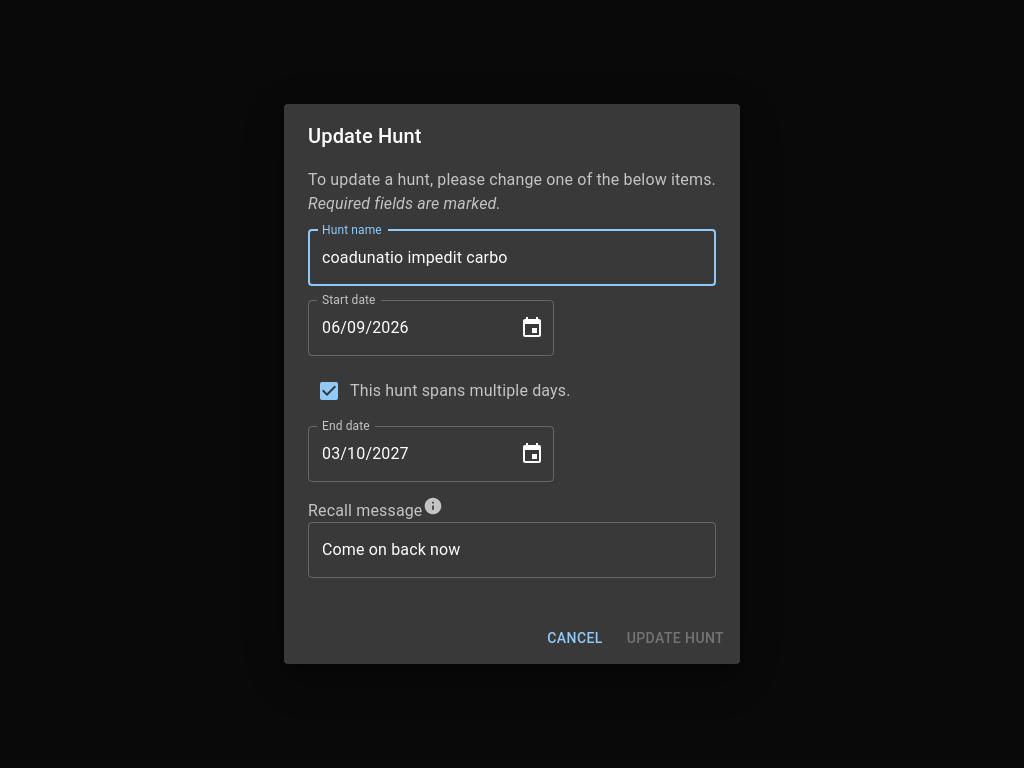
Test: UpdateHuntDialog › Name field › INVALID - value
The width and height of the screenshot is (1024, 768).
Replace the text in the field with test id "update-hunt-name" with "123": (512, 258) [308,230,716,286]
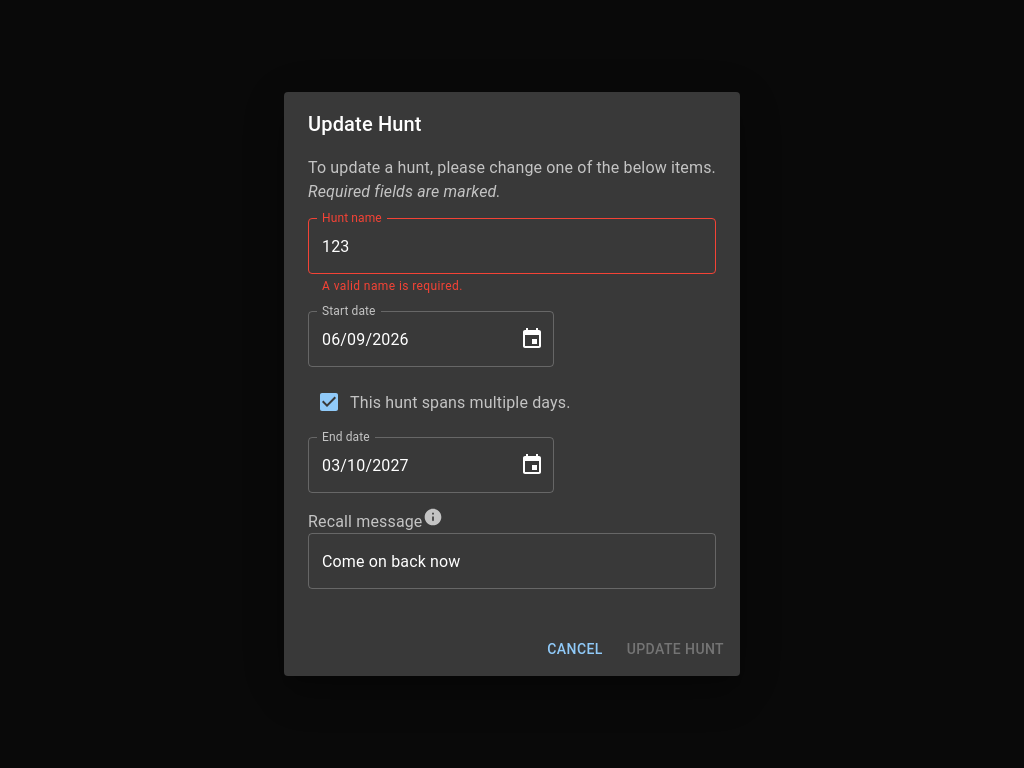
Check: the text "A valid name is required." is shown, box [322,279,463,293]
